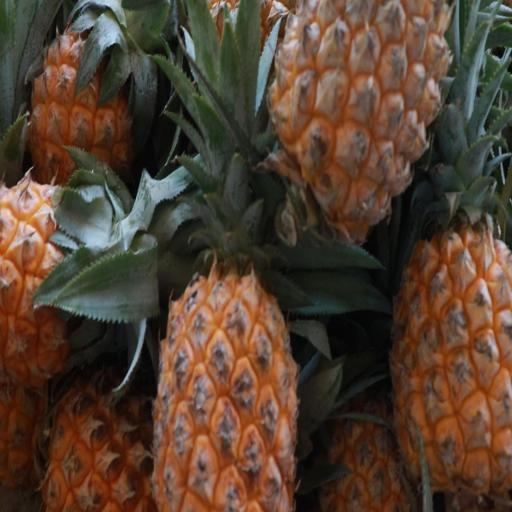Pineapple - v8 v1: (263, 0, 458, 257), (385, 151, 512, 512), (151, 239, 300, 512), (0, 170, 146, 397), (21, 0, 143, 209), (38, 357, 176, 512)
